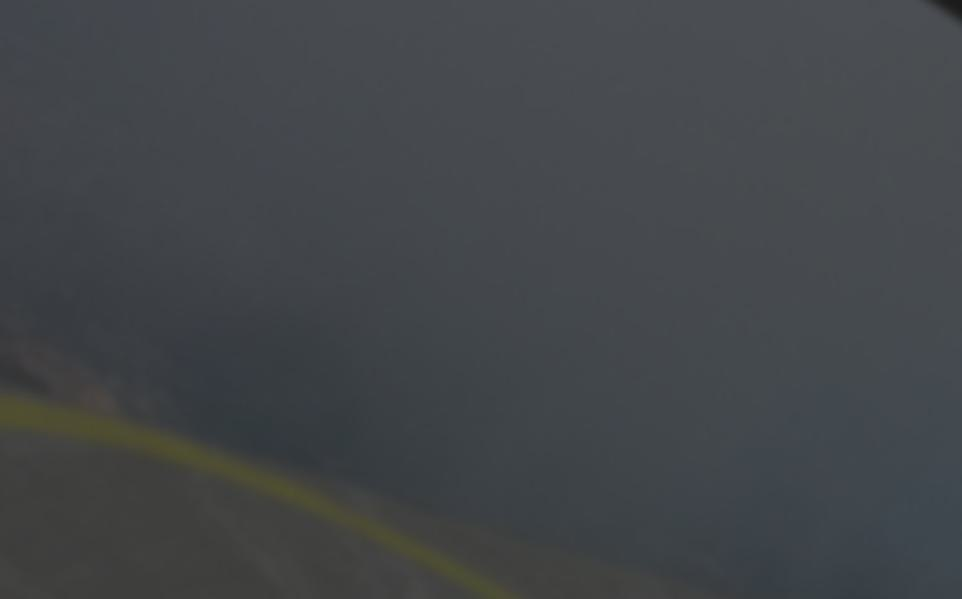Apron: (1, 384, 543, 599)
